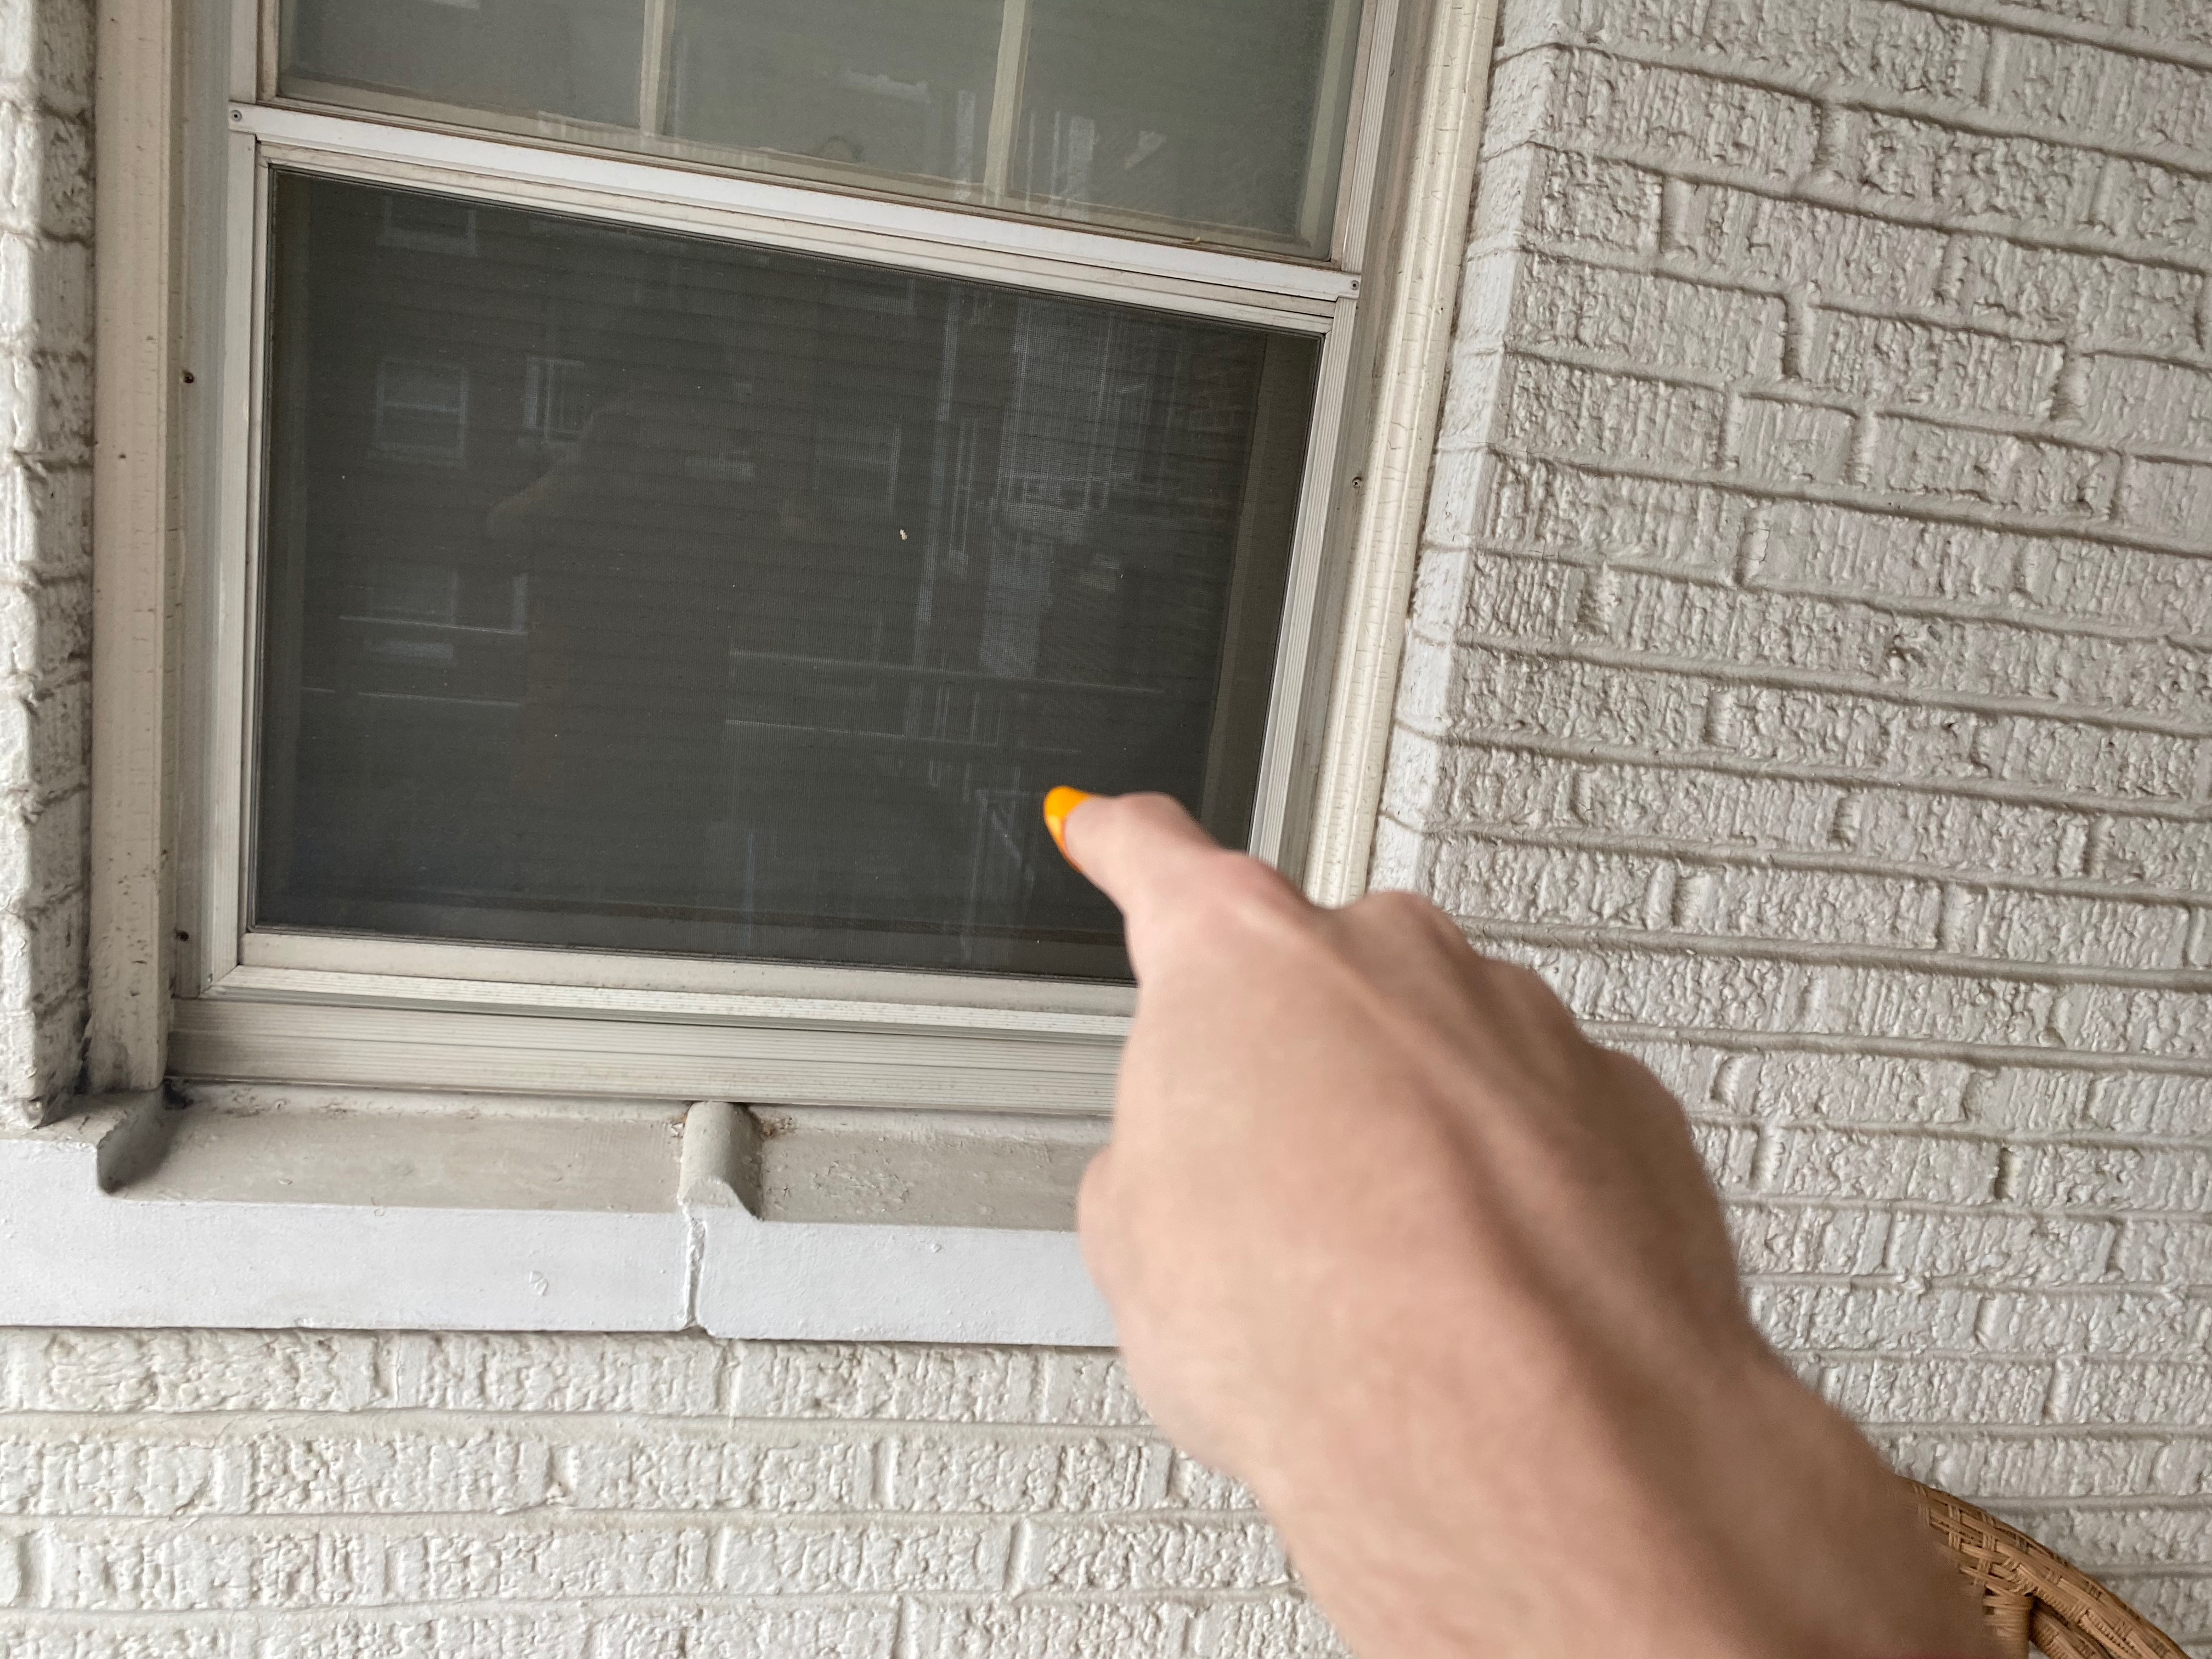fingertip: (1012, 770, 1130, 866)
